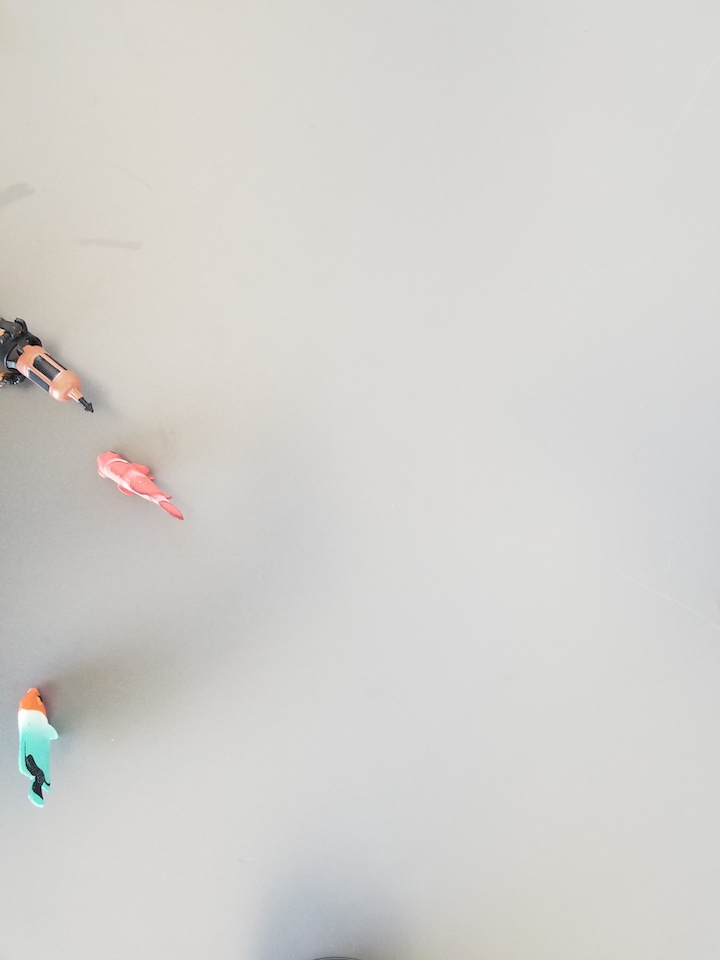diver: (1, 312, 99, 425)
fish: (7, 680, 74, 812), (90, 446, 192, 527)
